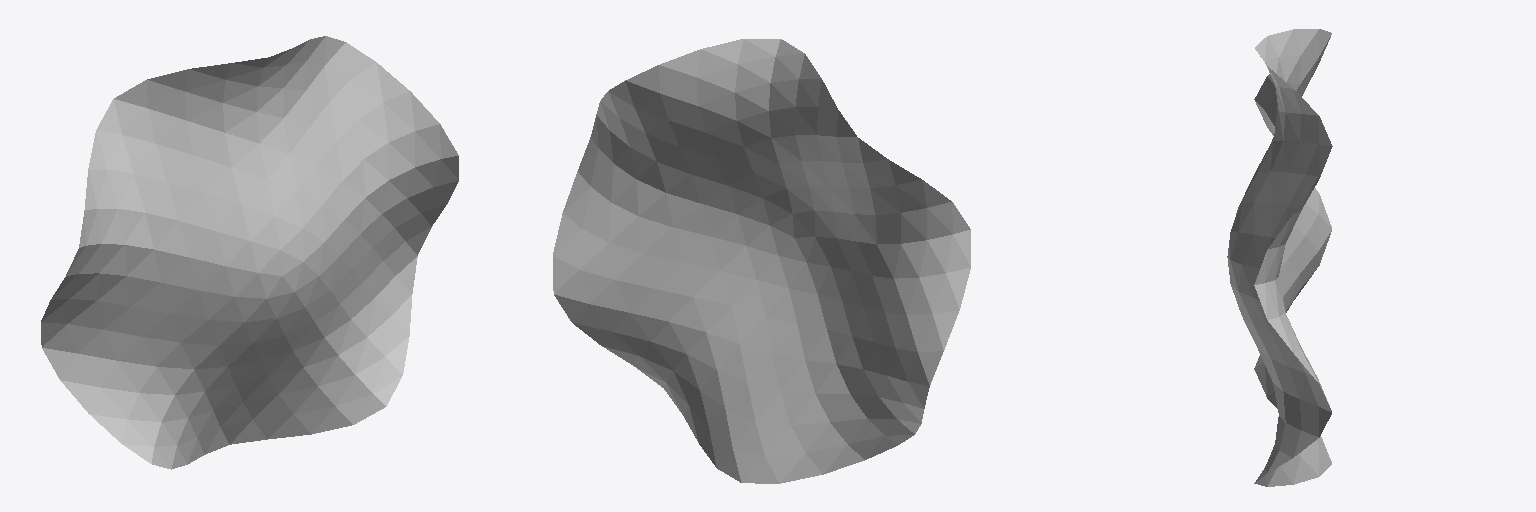
Rendered from penta3.obj.
The picture shows the model from 3 angles: view 1: azimuth 30°, elevation 25°; view 2: azimuth 150°, elevation 25°; view 3: azimuth 270°, elevation 25°; orthographic projection.
Bounding box in the file's own units: 15.38 × 15.39 × 3.52.